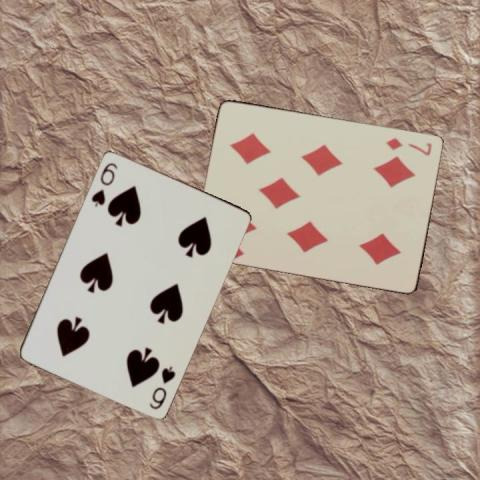6s: (145, 362, 177, 410), (88, 159, 119, 208)
7d: (384, 135, 434, 157)
